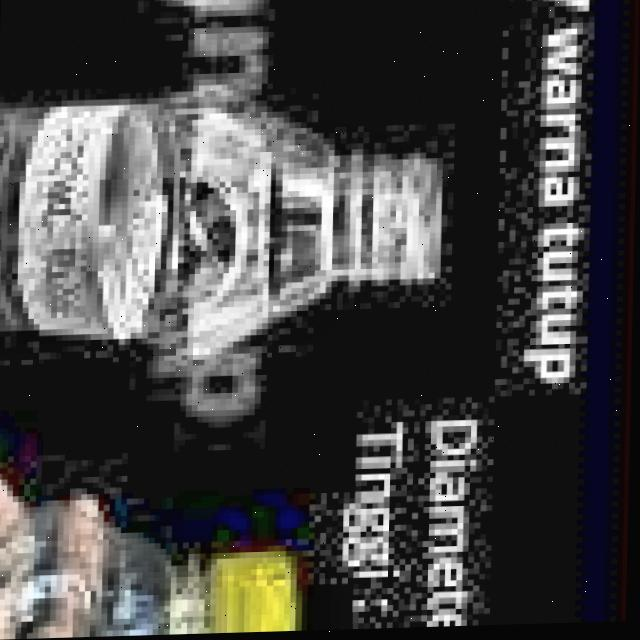plastic: (0, 79, 513, 388), (0, 495, 334, 640)
